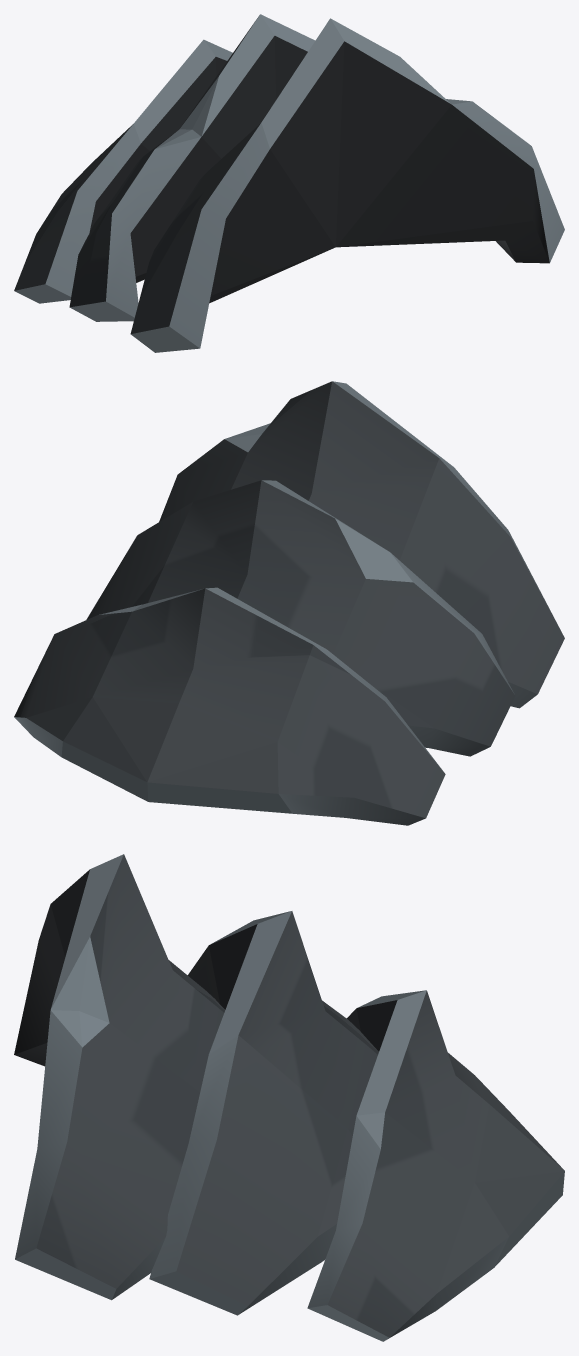
The model's file is SM_Chr_Attach_Armour_Dark_Neck_Large_01.fbx.
The picture shows the model from 3 angles, top to bottom: view 1: azimuth 30°, elevation 25°; view 2: azimuth 150°, elevation 25°; view 3: azimuth 270°, elevation 25°; orthographic projection. The views are drawn at different scales.
Parts seen in each view (by area): view 1: SM_Chr_Attach_Armour_Dark_Neck_Large_01; view 2: SM_Chr_Attach_Armour_Dark_Neck_Large_01; view 3: SM_Chr_Attach_Armour_Dark_Neck_Large_01.
Part boxes in pixels (left/top/right/bottom): SM_Chr_Attach_Armour_Dark_Neck_Large_01: left=14, top=14, right=564, bottom=352; SM_Chr_Attach_Armour_Dark_Neck_Large_01: left=14, top=381, right=564, bottom=825; SM_Chr_Attach_Armour_Dark_Neck_Large_01: left=14, top=854, right=564, bottom=1341.
Bounding box in the file's own units: 27.23 × 19.89 × 25.98.
